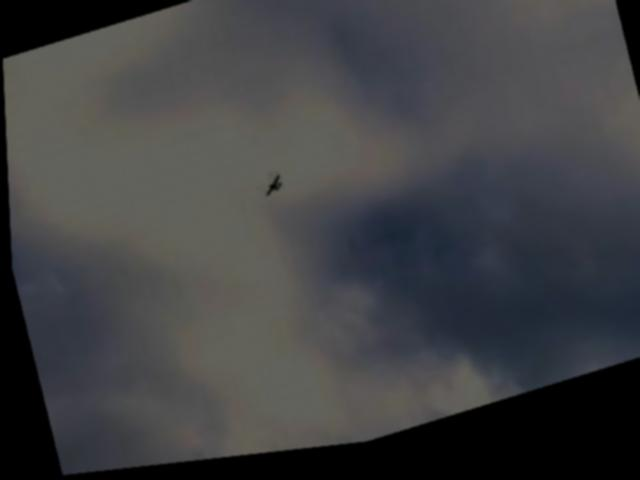uav: (259, 175, 287, 209)
